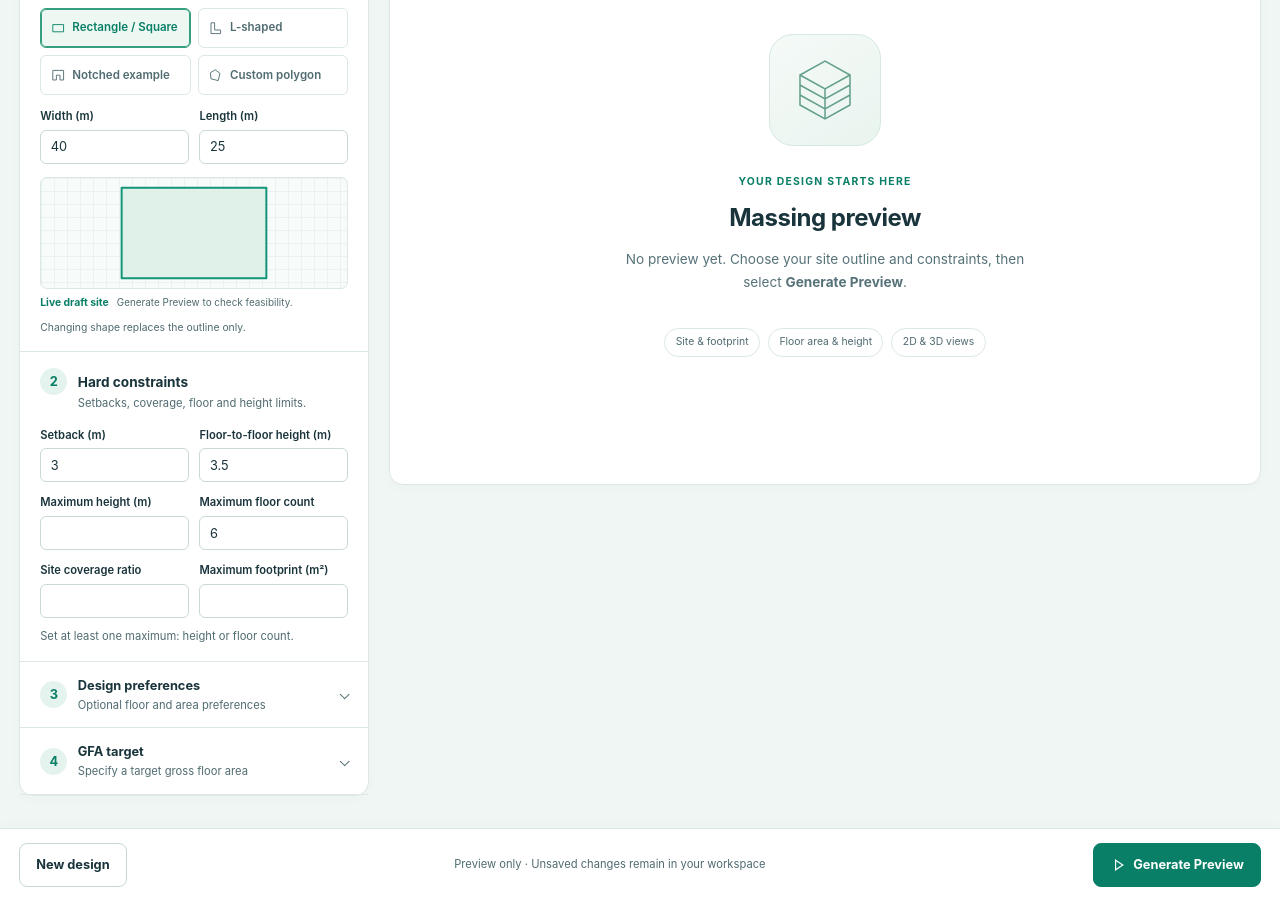
Test: Workspace actions › cancels a replaced pending preview and ignores its late response
(page scrolled)
Click the button "Generate Preview". click: (1177, 865)
box: [1093, 843, 1261, 887]
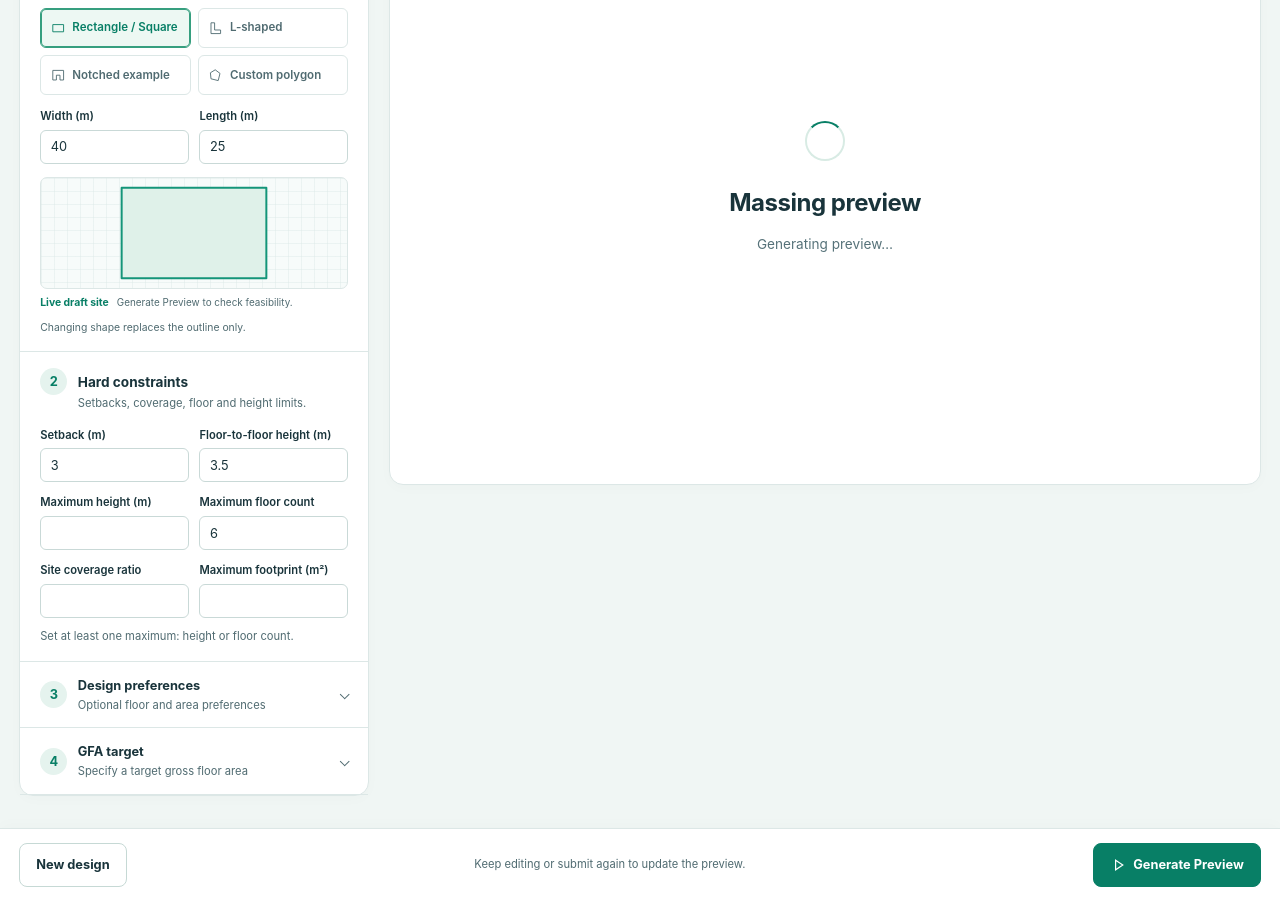
Expected: the text "Generating preview…" is shown, [757, 233, 893, 256]
Click the button "New design". click: (73, 865)
box: [19, 843, 127, 887]
(page scrolled)
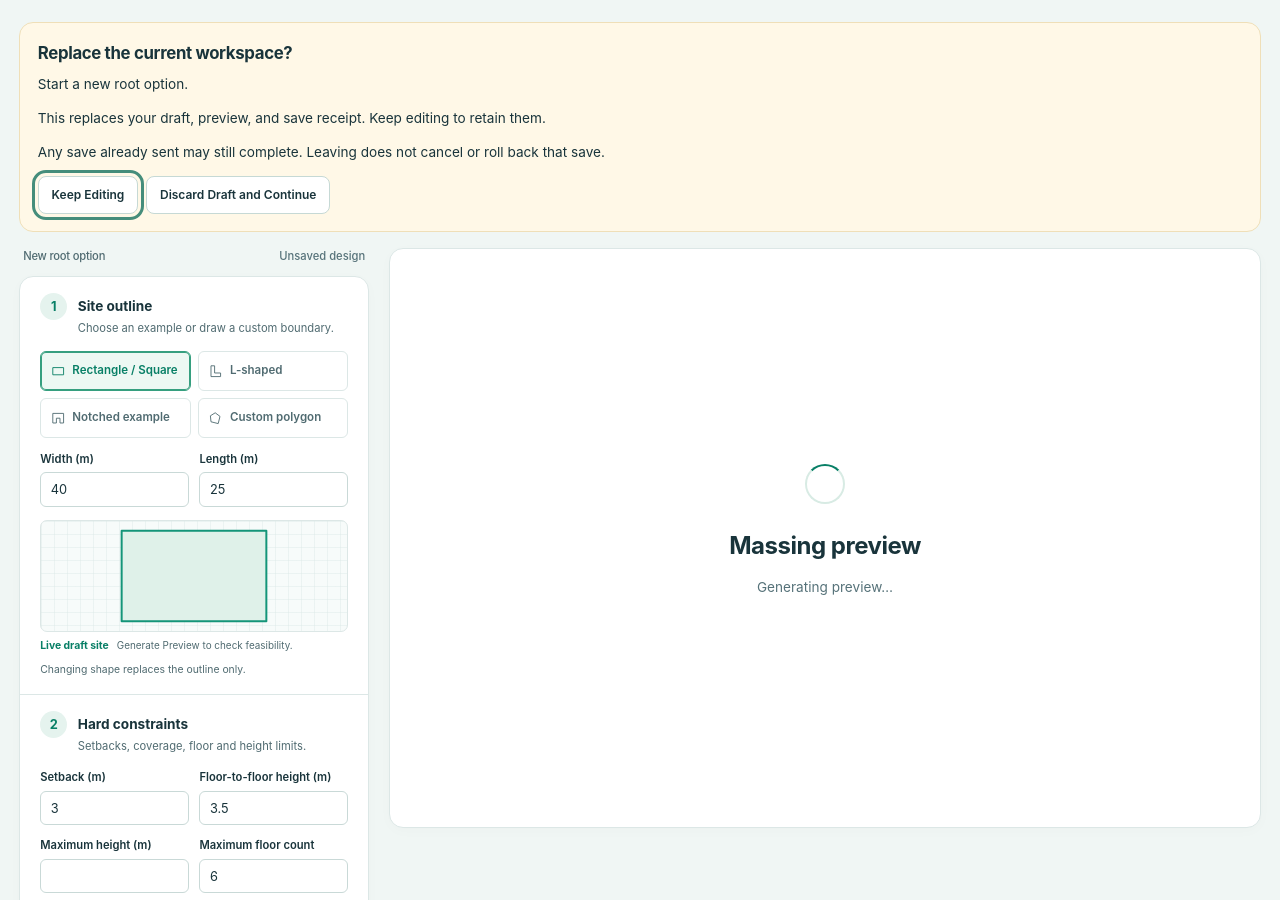
Click the button "Discard Draft and Continue". click: (238, 195)
box: [146, 176, 330, 214]
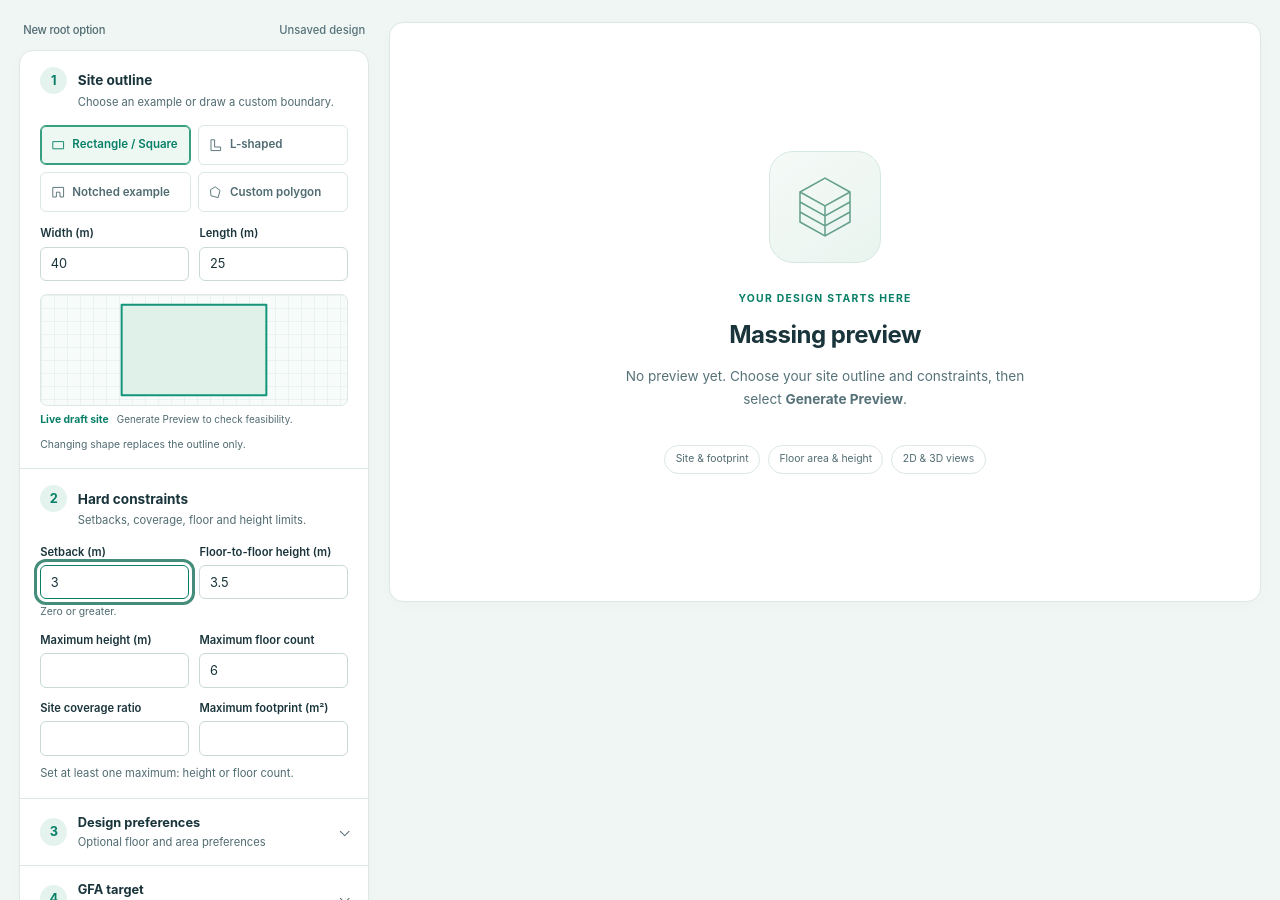
Expected: the heading "New root option" is shown, [23, 22, 105, 39]
Expected: the text "No preview yet" is shown, [626, 368, 1024, 407]
